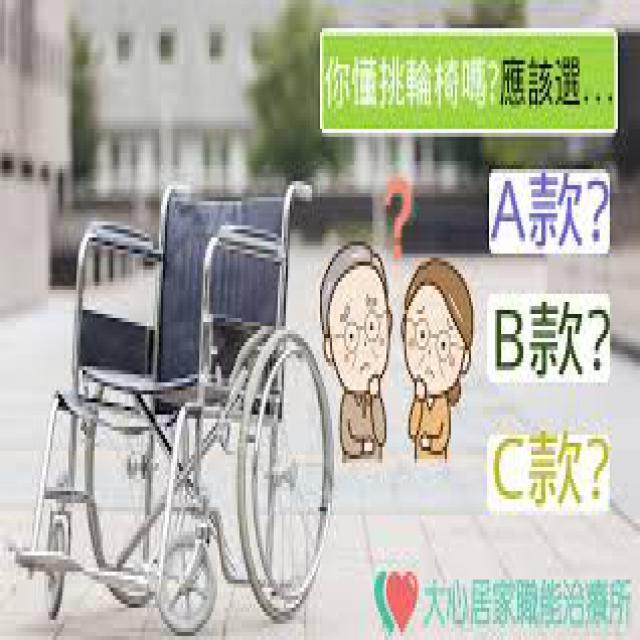wheelchairs: (19, 185, 333, 637)
